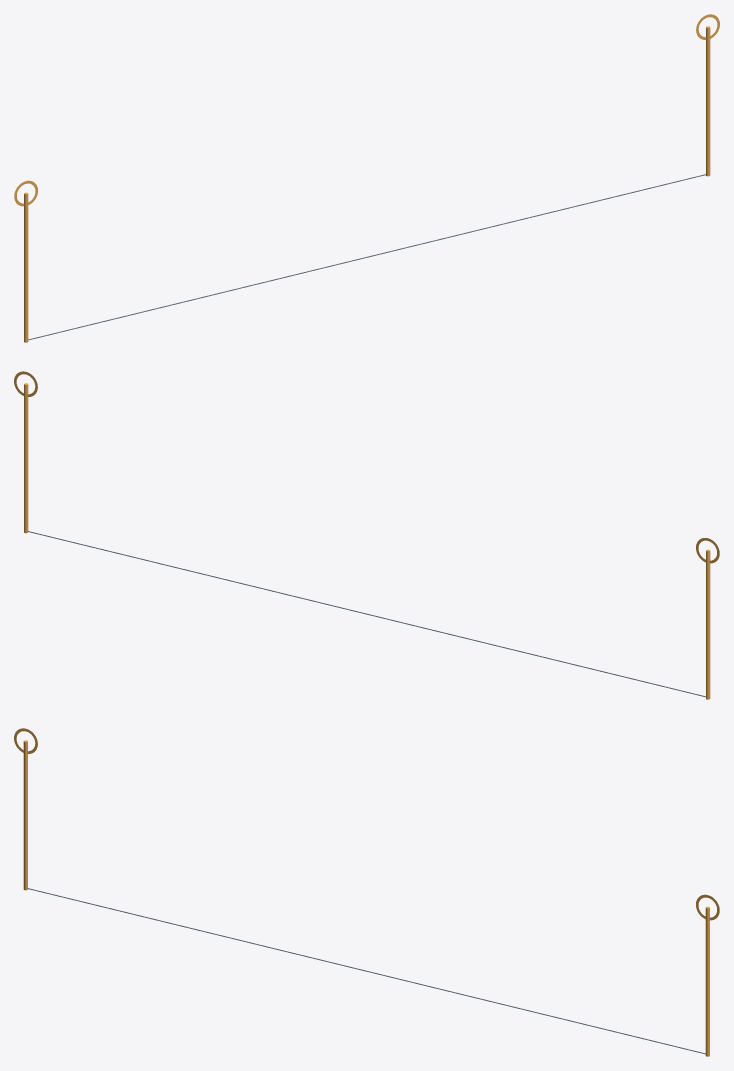
File: american-football-stadium-kit-chain-measuring-set-953c079d__22331.glb
3 views of the same model, one above another, from view 1: azimuth 30°, elevation 25°; view 2: azimuth 150°, elevation 25°; view 3: azimuth 330°, elevation 25° (orthographic).
Visible parts, largest first — view 1: chain-measuring-set; view 2: chain-measuring-set; view 3: chain-measuring-set.
Part boxes in pixels (left/top/right/bottom): chain-measuring-set: left=14, top=14, right=719, bottom=342; chain-measuring-set: left=14, top=371, right=719, bottom=699; chain-measuring-set: left=14, top=728, right=719, bottom=1056.
Size of the model in its own units: 9.46 by 2.06 by 0.0497.
